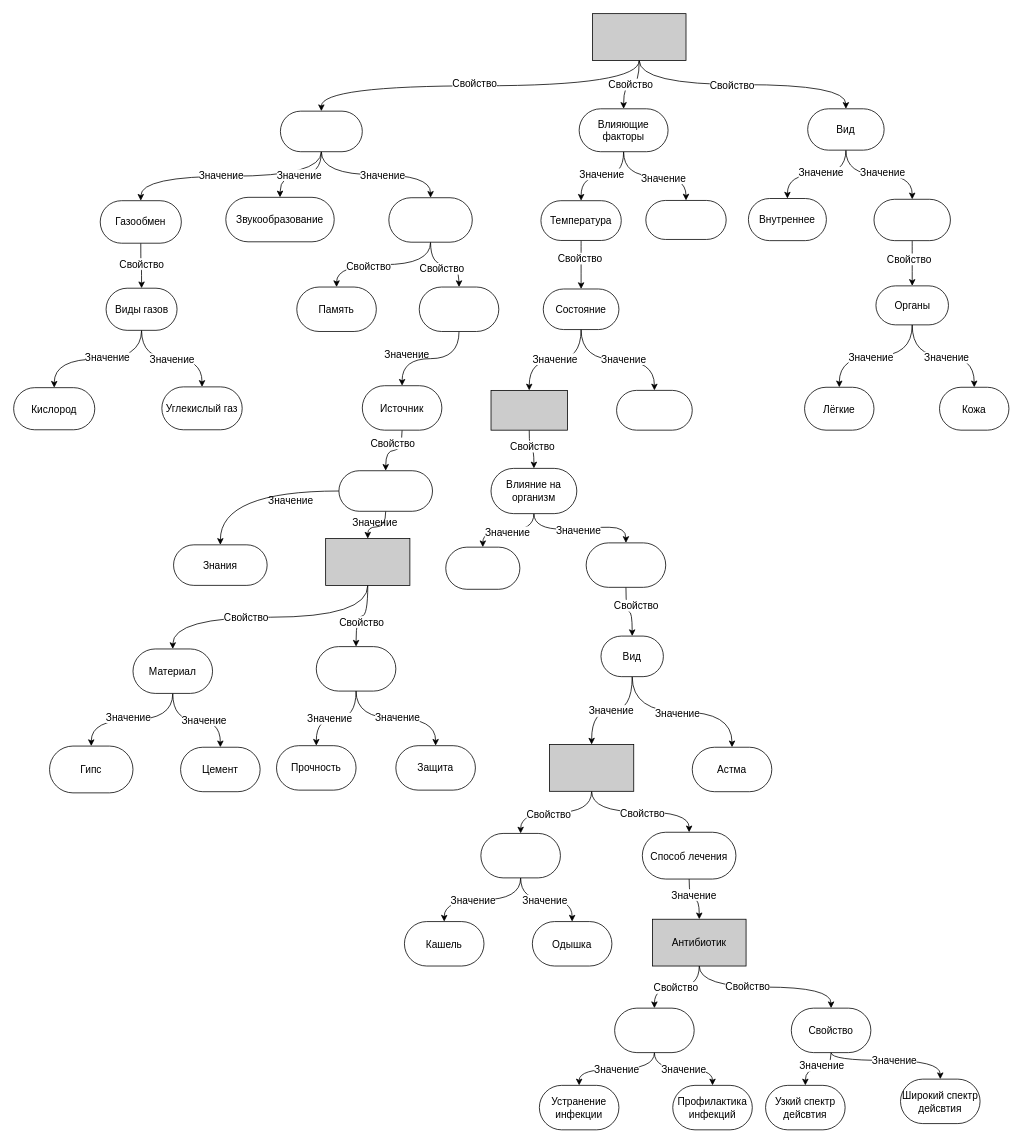
This 1023x1143 diagram has some shape labels left out. The centre of each missing label's shape, as x and y in pixels:
"Бронхит" belongs at pixel 591 767.
"Влажность" belongs at pixel 685 219.
"Внешнее" belongs at pixel 911 220.
"Дыхание" belongs at pixel 639 36.
"Заболевания" belongs at pixel 625 564.
"Закалка" belongs at pixel 482 567.
"Запах" belongs at pixel 458 309.
"Информация" belongs at pixel 385 490.
"Назначение" belongs at pixel 654 1030.
"Обоняние" belongs at pixel 430 219.
"Применение" belongs at pixel 356 668.
"Симптомы" belongs at pixel 520 855.
"Тепло" belongs at pixel 654 410.
"Функция" belongs at pixel 321 131.
"Холод" belongs at pixel 528 410.
"Штукатурка" belongs at pixel 367 561.
